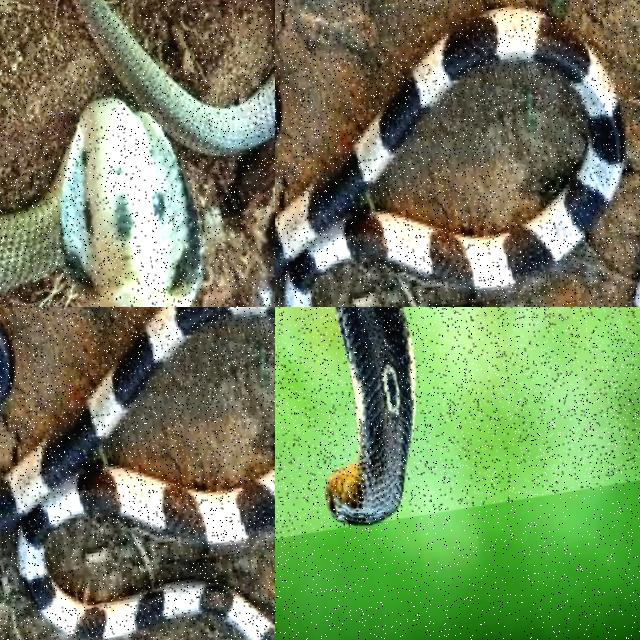Bungarus candidus: (275, 7, 626, 306), (0, 307, 274, 639)
Naja kaouthia: (326, 307, 415, 524)
Naja siamensis: (0, 0, 274, 306)
snake: (275, 7, 626, 306), (0, 307, 274, 639), (0, 0, 274, 306), (326, 307, 415, 524)
